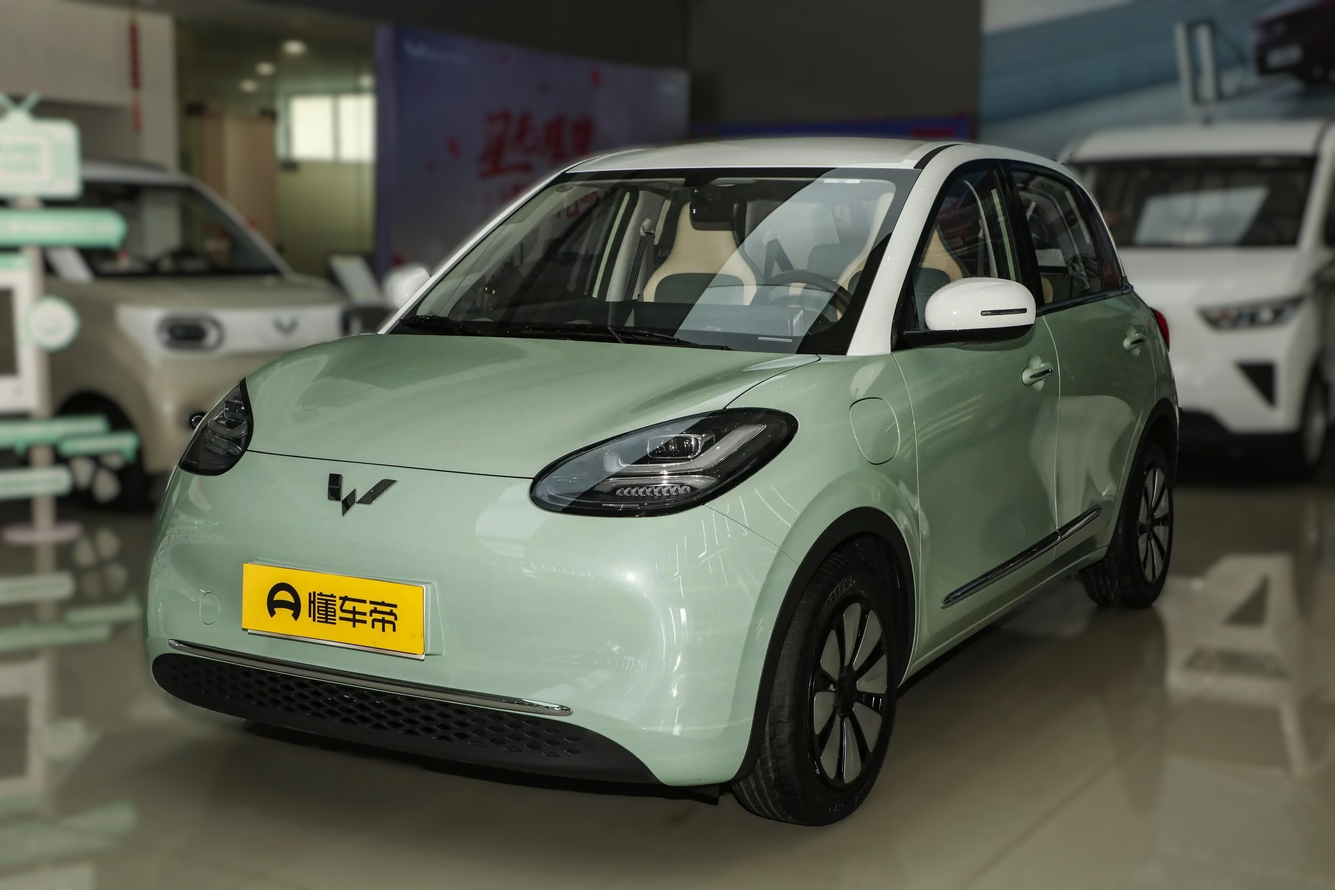SGMW: (327, 473, 397, 516)
